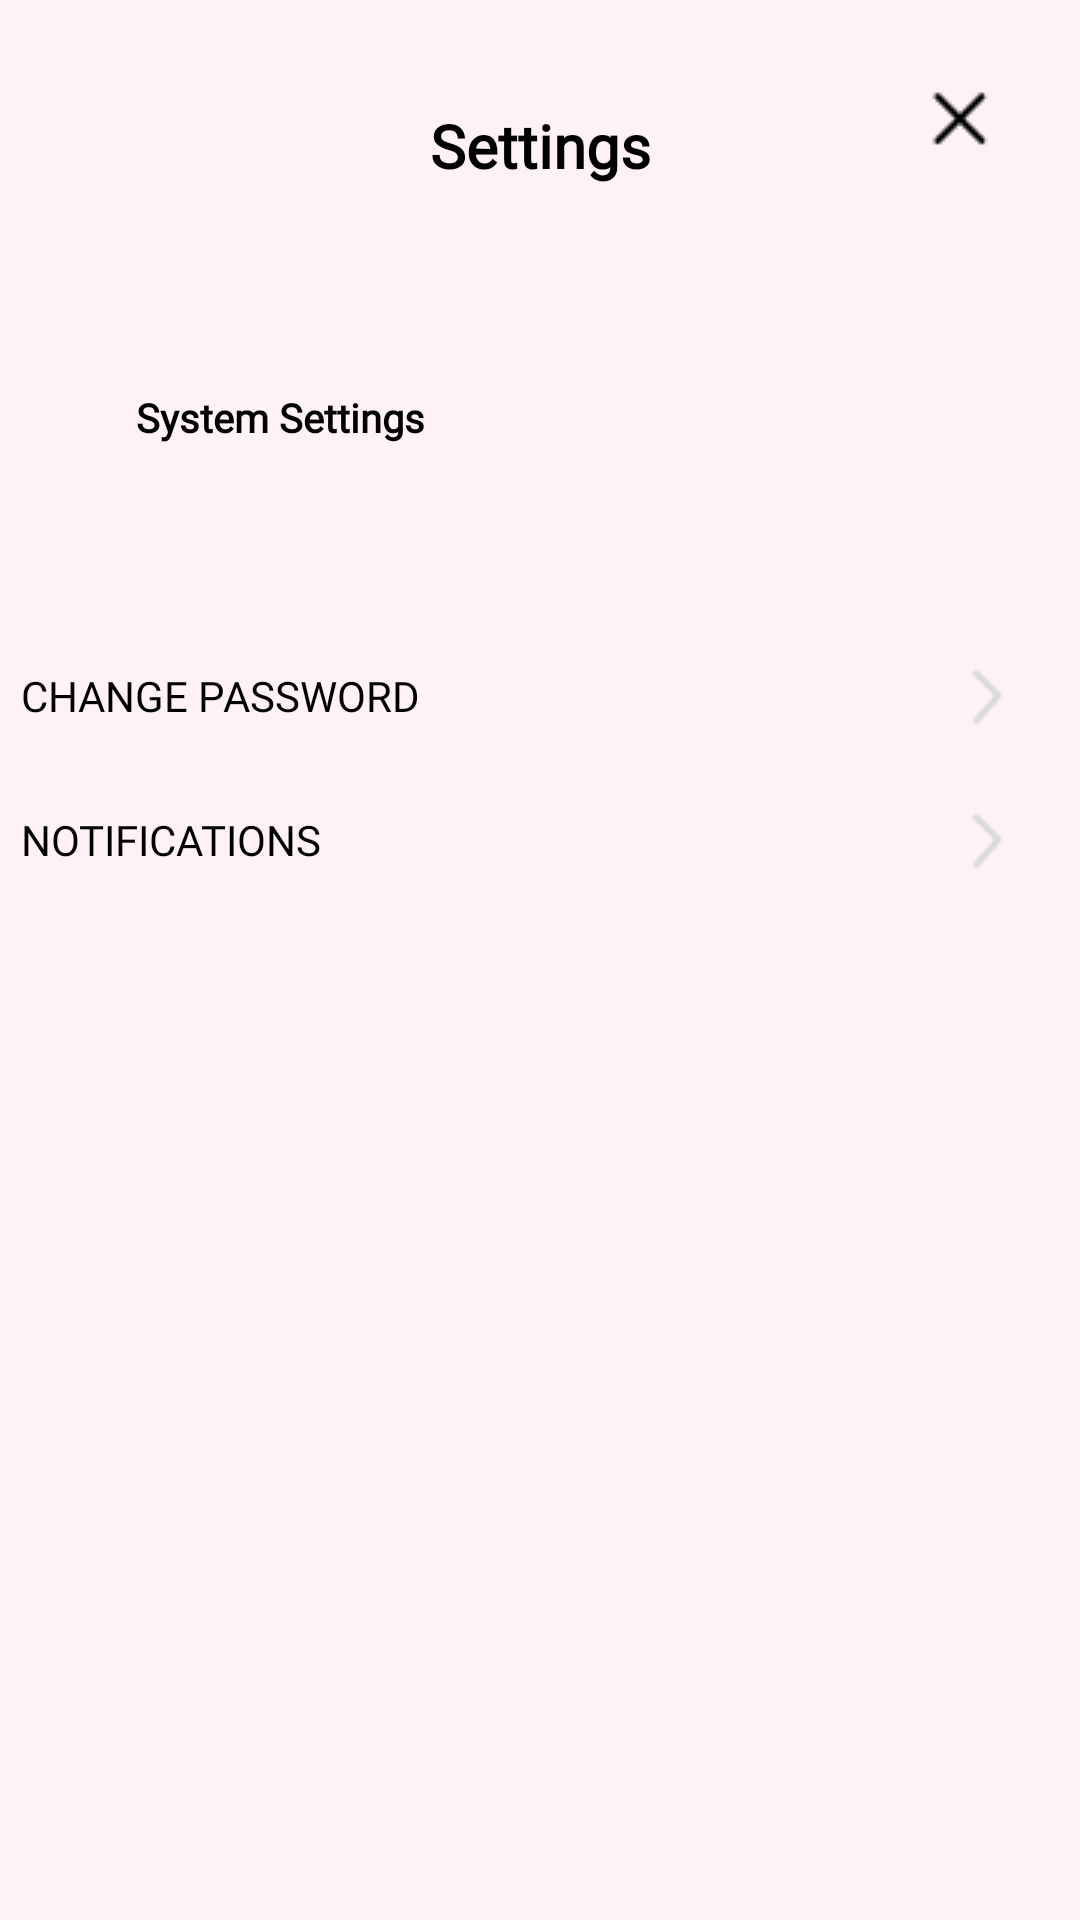

Icons on this 1080w x 1920h Android screen, each with its box as (x1, y1, x2, y2):
exit: (932, 92, 987, 145)
